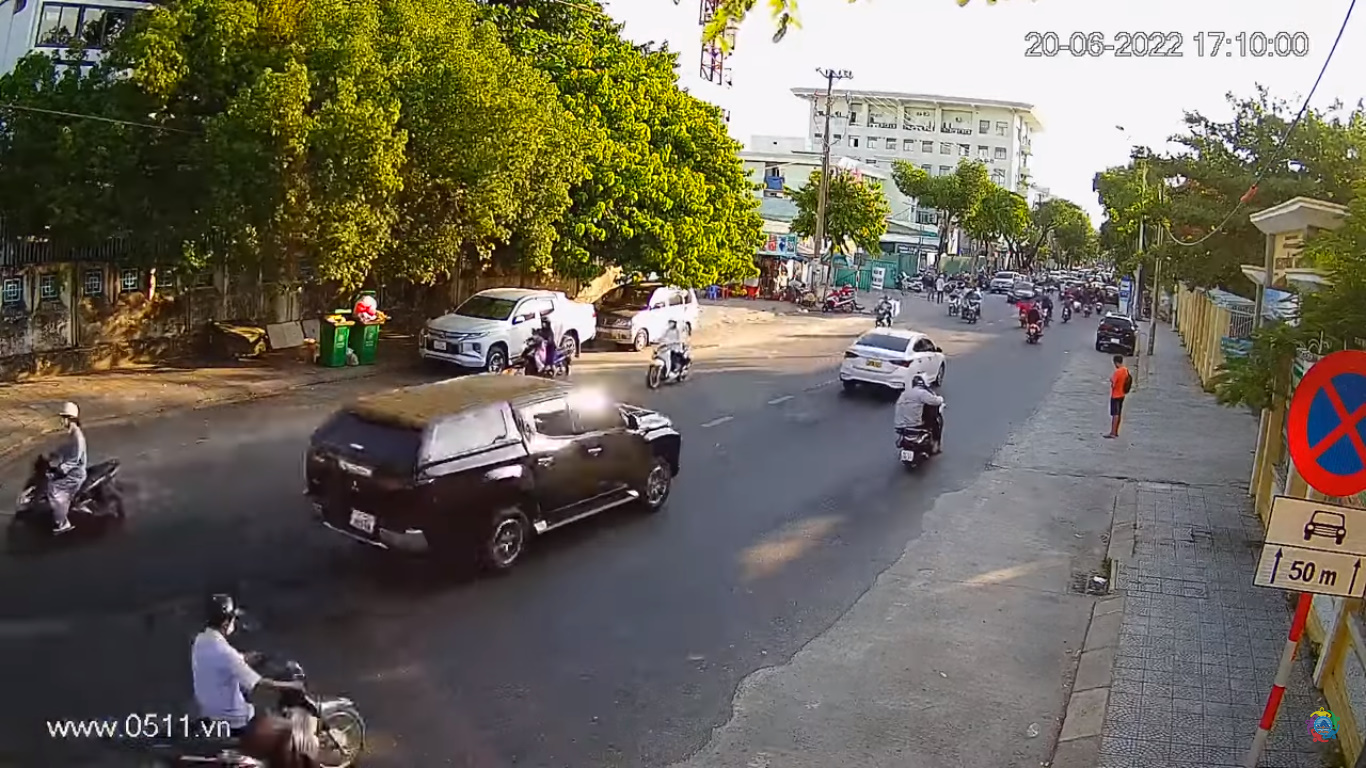car: (304, 365, 684, 573), (835, 324, 947, 399)
